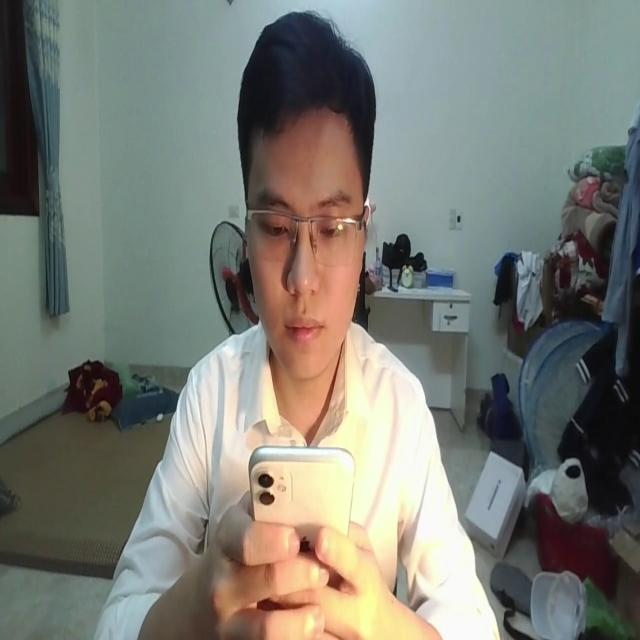phone: (247, 436, 354, 573)
student: (95, 17, 497, 640)
